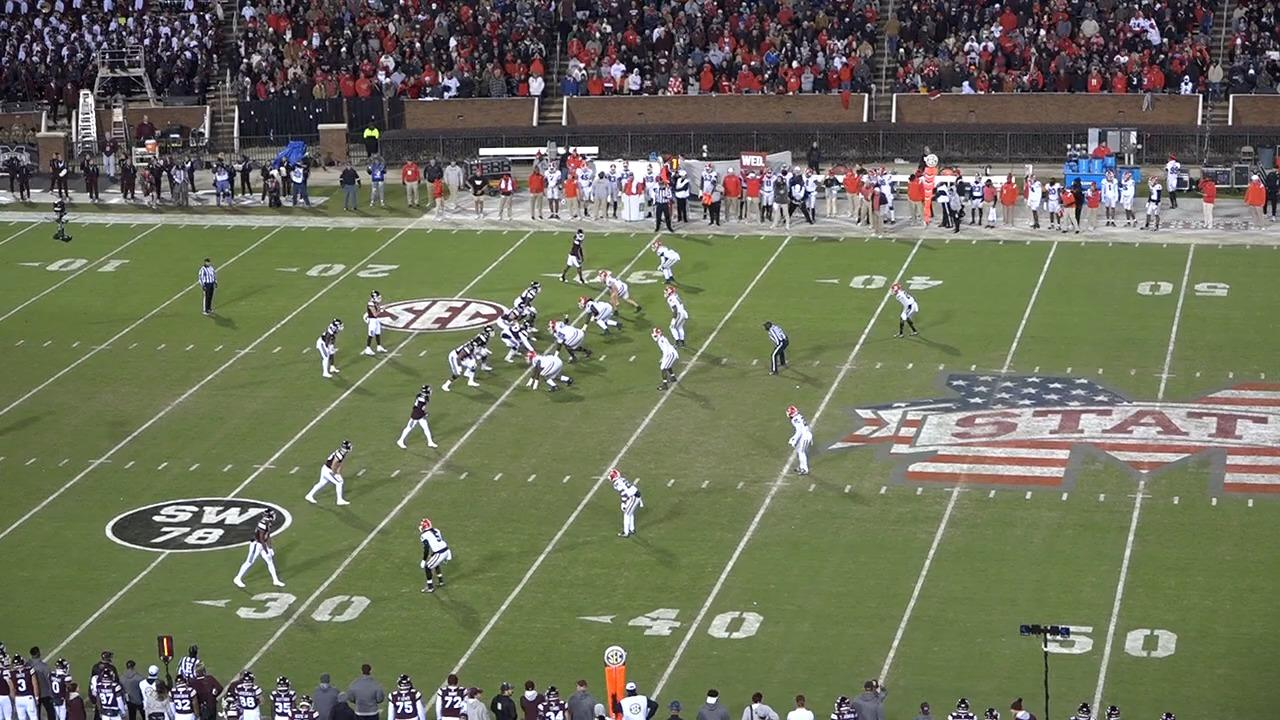defense: (611, 468, 649, 543), (413, 515, 450, 592), (783, 405, 814, 482), (597, 270, 642, 316), (525, 354, 574, 396), (548, 320, 592, 366), (653, 326, 682, 394), (575, 300, 621, 340), (892, 285, 921, 343), (662, 285, 688, 347), (653, 240, 682, 287)
oline: (446, 338, 488, 393), (503, 322, 538, 366), (469, 324, 497, 375), (494, 303, 524, 346), (513, 283, 542, 309)
qb: (362, 286, 391, 357)
ref: (762, 317, 790, 376), (197, 259, 223, 318), (652, 179, 678, 233), (180, 641, 207, 685)
skill: (234, 506, 292, 593), (302, 441, 355, 512), (394, 381, 439, 451), (557, 228, 588, 287), (314, 320, 343, 383)
